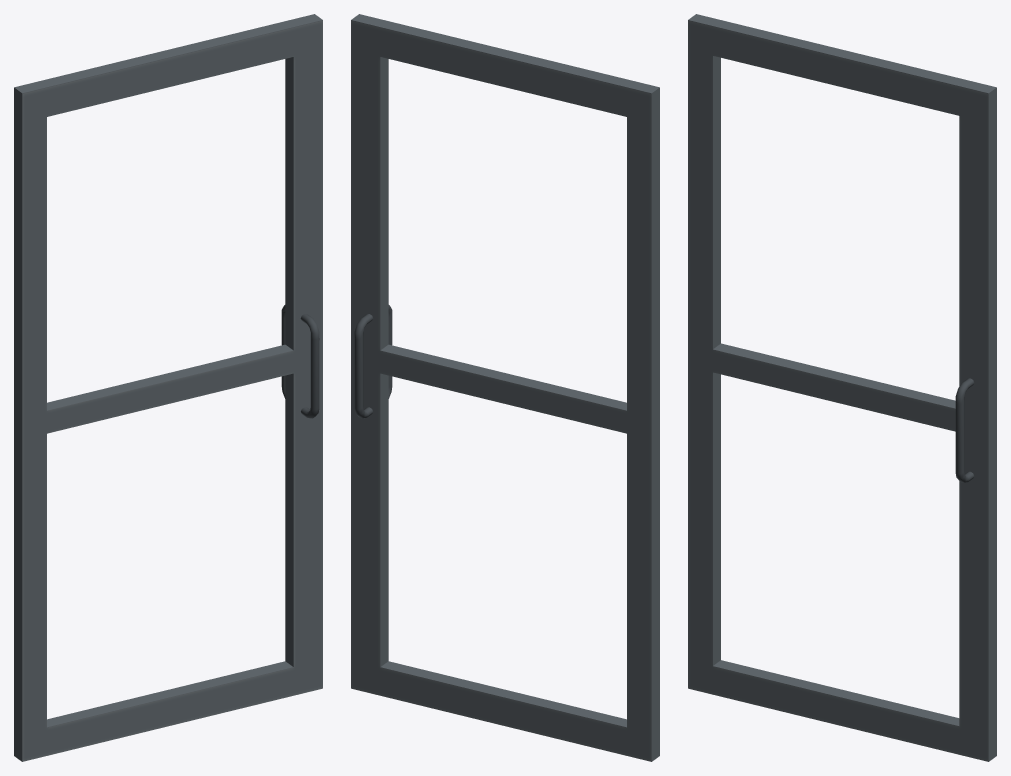
File: entrance door.FBX
3 views of the same model, side by side, from view 1: azimuth 30°, elevation 25°; view 2: azimuth 150°, elevation 25°; view 3: azimuth 330°, elevation 25° (orthographic).
Parts seen in each view (by area): view 1: entrance door; view 2: entrance door; view 3: entrance door.
Part boxes in pixels (<box>): entrance door: <box>14,14,322,761</box>; entrance door: <box>351,14,659,761</box>; entrance door: <box>688,14,996,761</box>.
Size of the model in its own units: 38.41 by 7.45 by 81.61.
